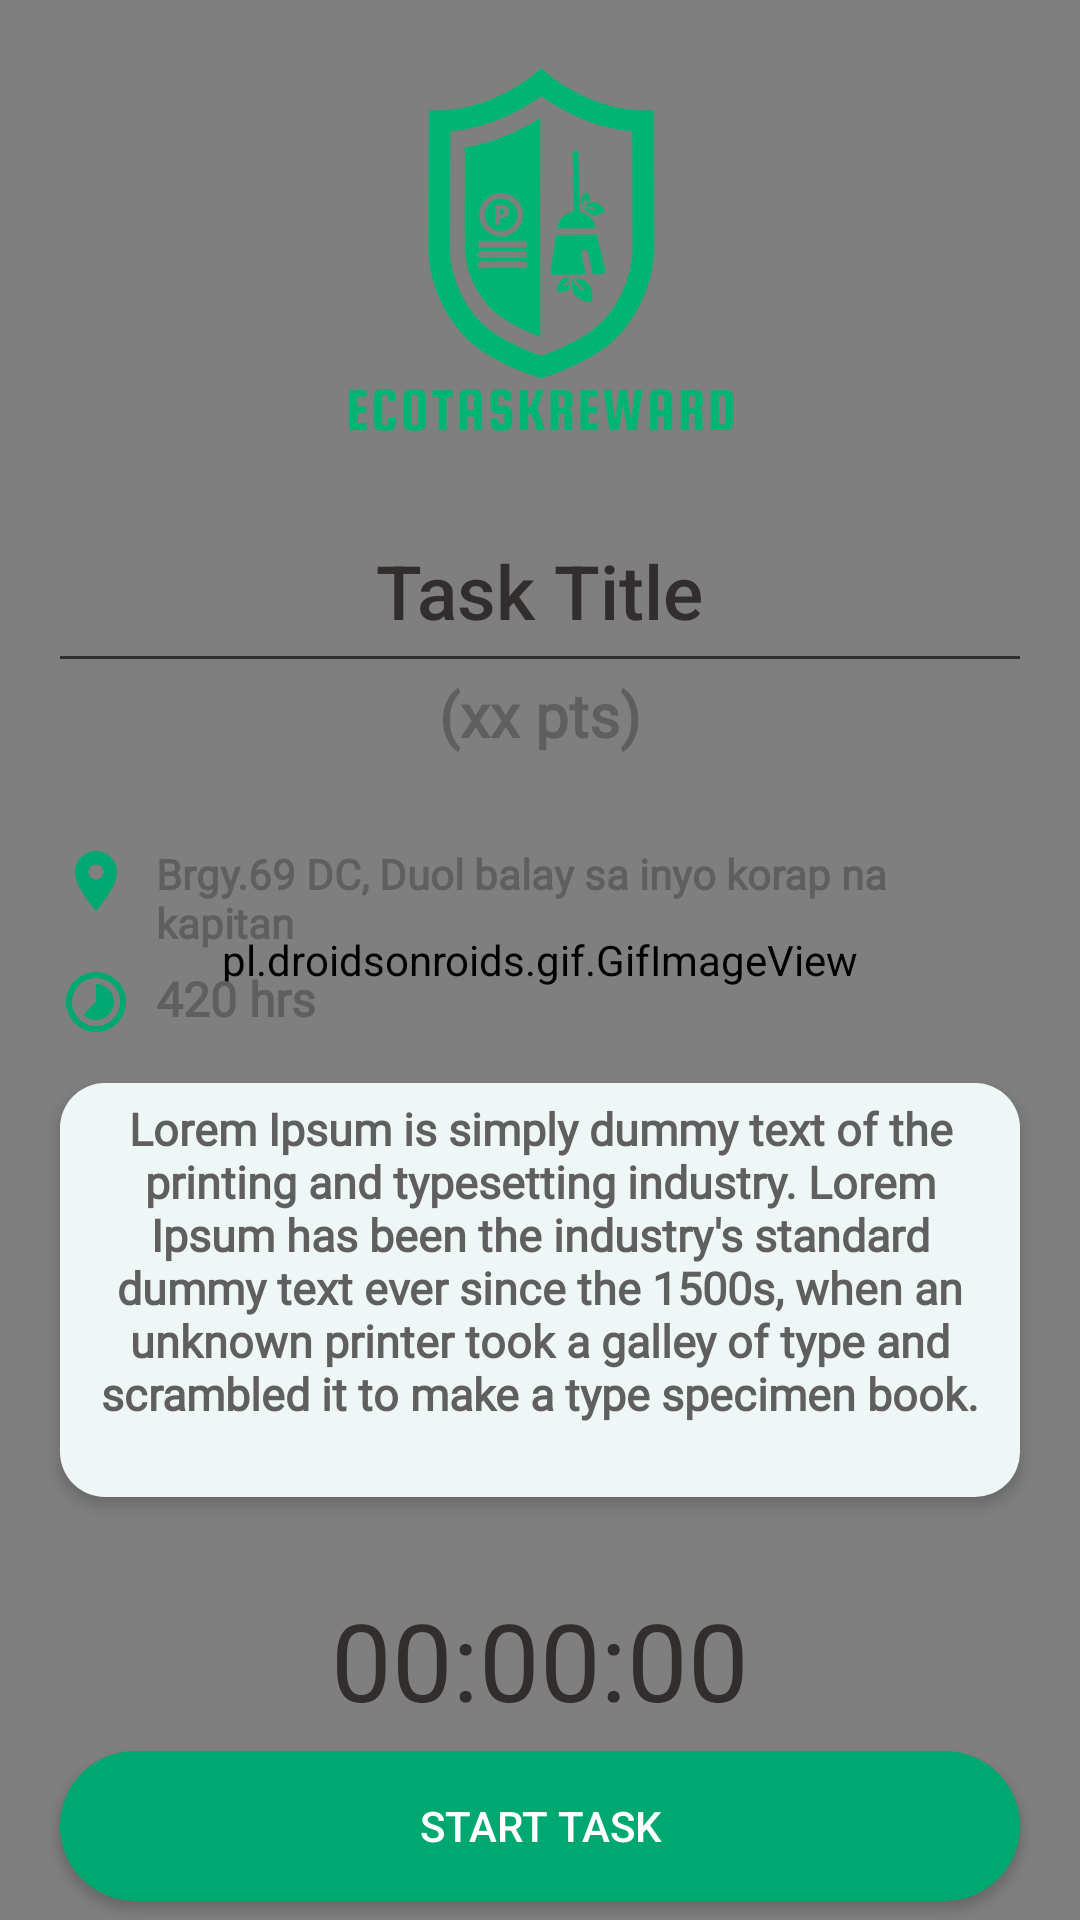

Named icons in this screenshot (1080 × 1920) and their bounding boxes, (x1, y1, x2, y2):
location: (75, 851, 117, 911)
timer: (66, 972, 126, 1032)
